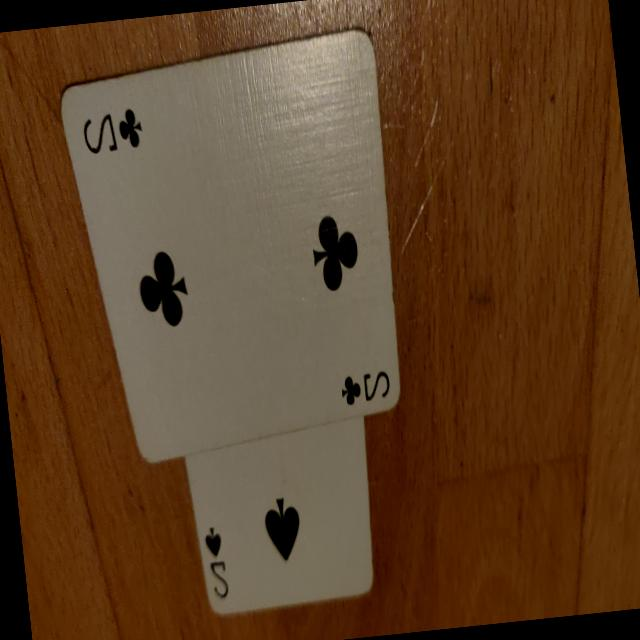Club: (136, 248, 191, 329), (309, 214, 361, 292), (118, 107, 144, 149), (340, 375, 361, 405)
Spade: (262, 495, 303, 563), (204, 526, 222, 557)
